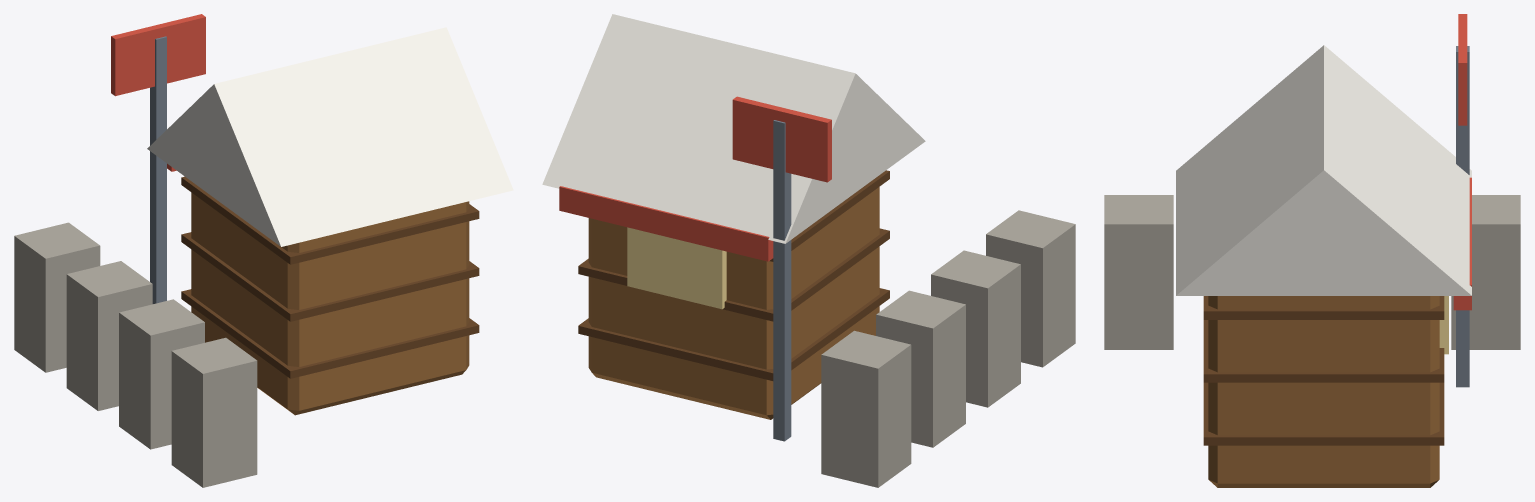
File: checkpoint_cabin.glb
The picture shows the model from 3 angles, left to right: view 1: azimuth 30°, elevation 25°; view 2: azimuth 150°, elevation 25°; view 3: azimuth 270°, elevation 25°; orthographic projection. The views are drawn at different scales.
Parts seen in each view (by area): view 1: checkpoint_cabin; view 2: checkpoint_cabin; view 3: checkpoint_cabin.
Boxes of the visible parts, x1,y1,x2,y2 form: checkpoint_cabin: (14,14,513,487); checkpoint_cabin: (542,14,1075,487); checkpoint_cabin: (1104,14,1520,487).
Size of the model in its own units: 1.89 by 1.65 by 1.8.
1 material, 1 textured.
